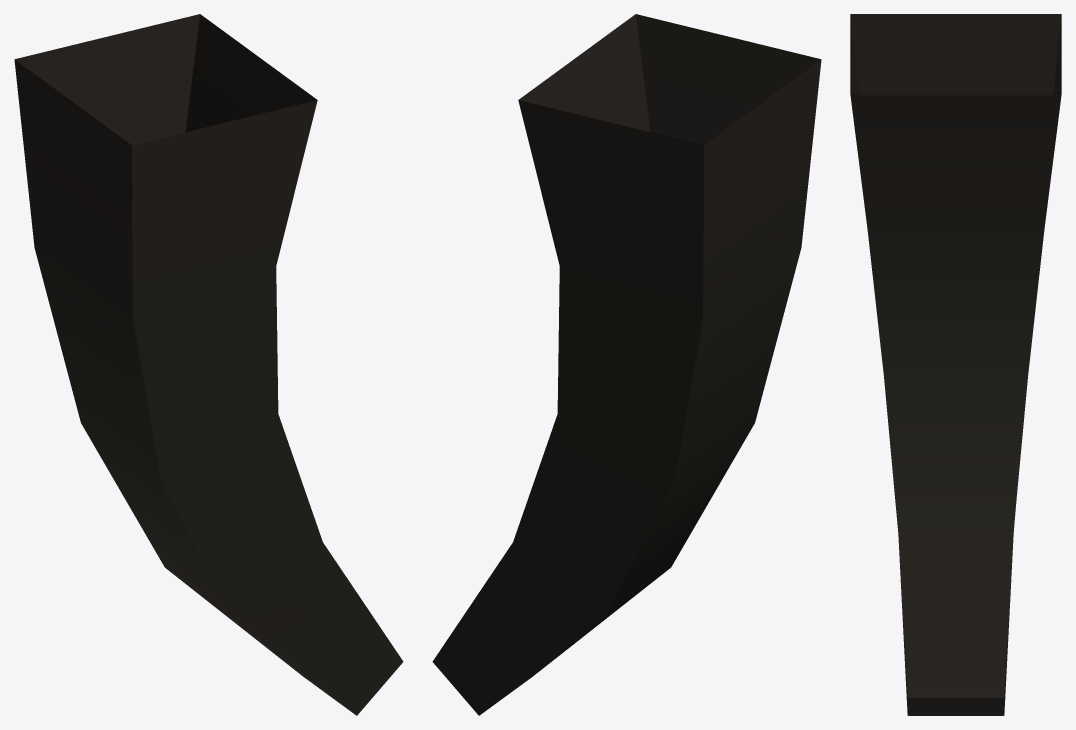
File: Pistol2_Trigger.fbx
3 renders of one model, left to right at view 1: azimuth 30°, elevation 25°; view 2: azimuth 150°, elevation 25°; view 3: azimuth 270°, elevation 25°, orthographic. The views are drawn at different scales.
Visible parts, largest first — view 1: Pistol2_Trigger; view 2: Pistol2_Trigger; view 3: Pistol2_Trigger.
Boxes of the visible parts, x1,y1,x2,y2 form: Pistol2_Trigger: [14, 14, 403, 715]; Pistol2_Trigger: [432, 14, 821, 715]; Pistol2_Trigger: [850, 14, 1061, 715].
Size of the model in its own units: 1.88 by 3.89 by 1.26.
